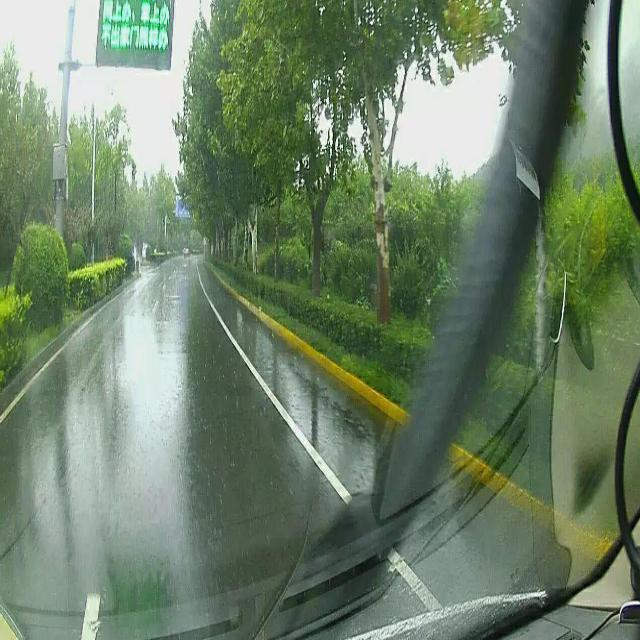car: (179, 248, 191, 258)
